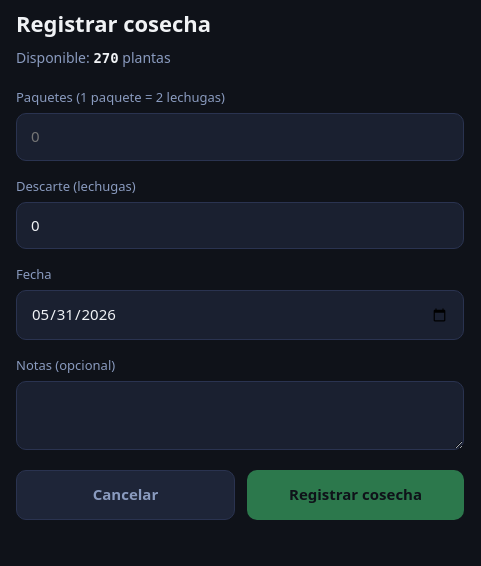
Test: CosecharUpScreen › deshabilita confirmar cuando la cosecha excede lo disponible (INV-4)
In the number field labelled "Paquetes (1 paquete = 2 lechugas)": (240, 137) [16,113,464,161], type "140"
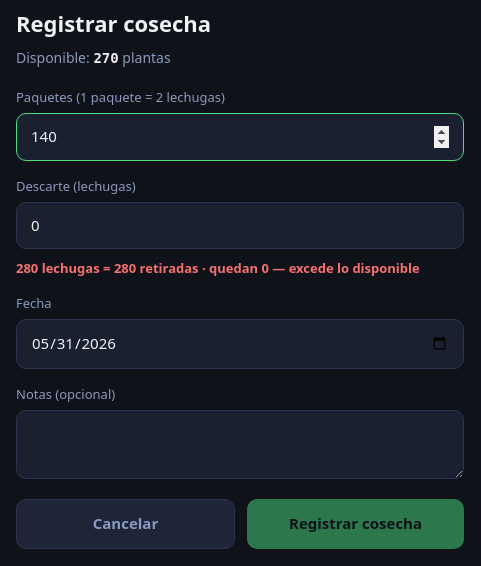
Expected: the button "Registrar cosecha" is disabled, [247,499,464,549]
Now the text "excede lo disponible" is shown, box [269,259,420,277]
